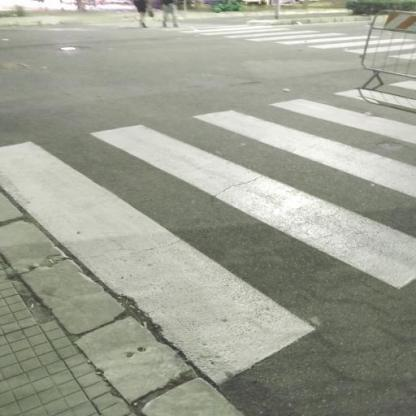crosswalk: (88, 104, 416, 292)
